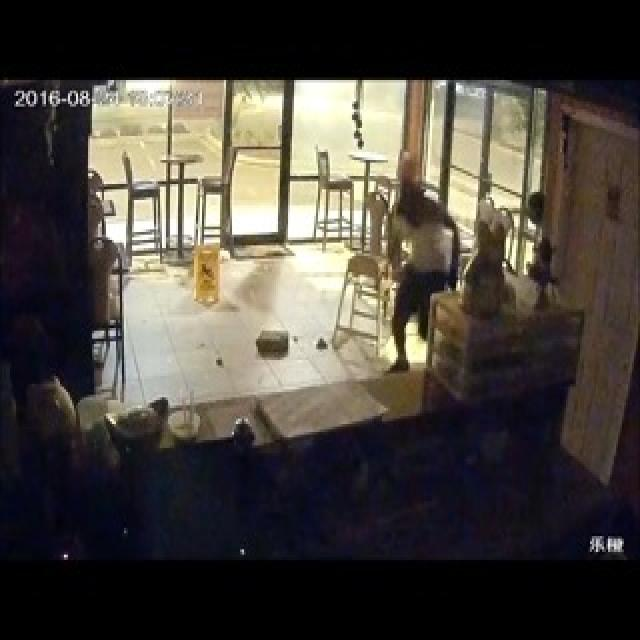thief: (388, 148, 464, 308)
